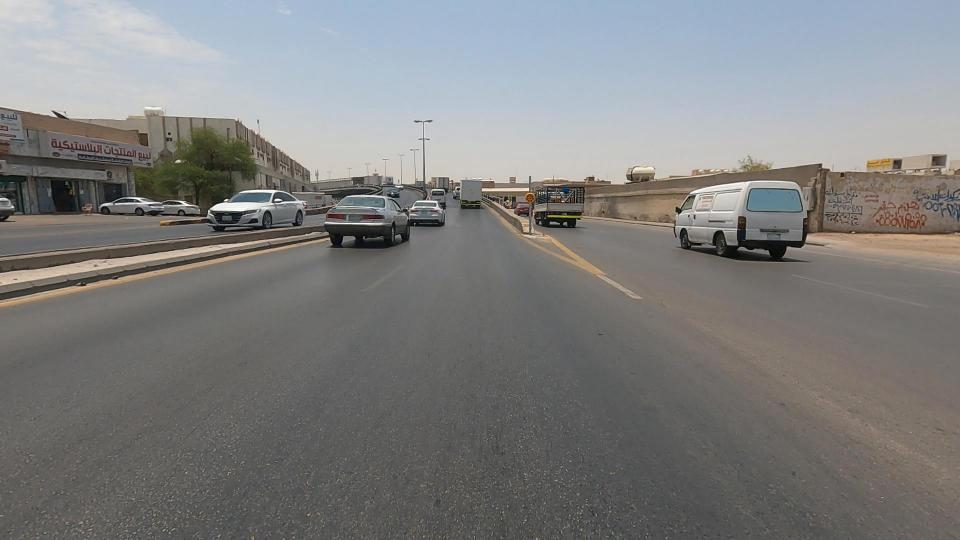GRAFFITI: (836, 140, 960, 265), (774, 154, 891, 251)
